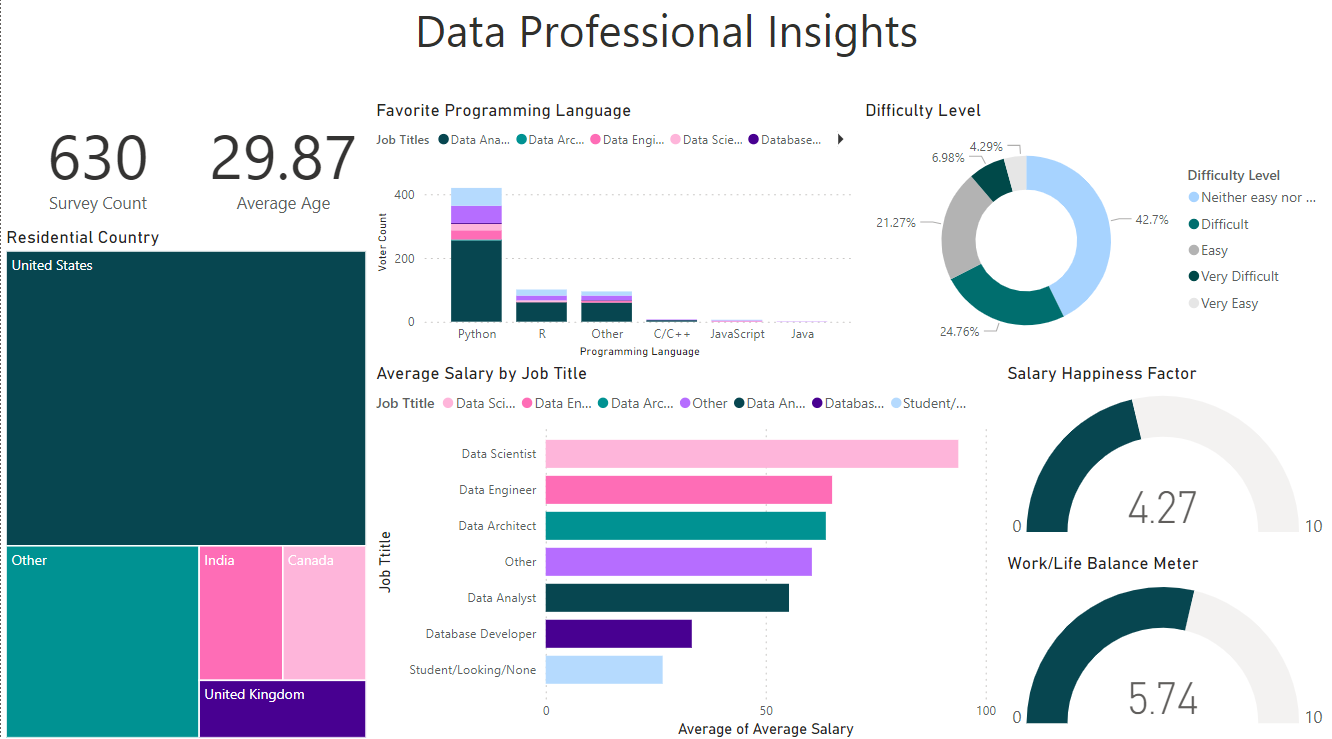

What the dashboard file says about the page in this screenshot:
{"tool":"powerbi","page":{"name":"Page 1","canvas":[1280,720],"ordinal":0},"visuals":[{"type":"textbox","box":[0,0,1280,101.2],"z":0},{"type":"card","fields":{"Values":["Count(Data Professional Survey.Unique ID)"]},"box":[0,100.8,186.2,122.4],"z":1000},{"type":"card","fields":{"Values":["Avg(Data Professional Survey.Q10 - Current Age)"]},"box":[186.2,100.8,169.8,122.4],"z":2000},{"type":"barChart","title":"Average Salary by Job Title","fields":{"Category":["Data Professional Survey.Q1 - Which Title Best Fits your Current Role?.1"],"Y":["Avg(Data Professional Survey.Average Salary)"],"Series":["Data Professional Survey.Q1 - Which Title Best Fits your Current Role?.1"]},"box":[356,354,606,366.3],"z":3000},{"type":"columnChart","title":"Favorite Programming Language","fields":{"Category":["Data Professional Survey.Q5 - Favorite Programming Language.1"],"Y":["CountNonNull(Data Professional Survey.Unique ID)"],"Series":["Data Professional Survey.Q1 - Which Title Best Fits your Current Role?.1"]},"box":[356,100.8,470.2,253.1],"z":4000},{"type":"treemap","title":"Residential Country","fields":{"Group":["Data Professional Survey.Q11 - Which Country do you live in?.1"],"Values":["Sum(Data Professional Survey.Average Salary)"]},"box":[0,223.3,356,497],"z":5000},{"type":"gauge","title":"Work/Life Balance Meter","fields":{"Y":["Avg(Data Professional Survey.Q6 - How Happy are you in your Current Position with the following? (Work/Life Balance))"],"MinValue":["Min(Data Professional Survey.Q6 - How Happy are you in your Current Position with the following? (Work/Life Balance))"],"MaxValue":["Max(Data Professional Survey.Q6 - How Happy are you in your Current Position with the following? (Work/Life Balance))1"]},"box":[962.1,536.1,317.9,184.2],"z":6000},{"type":"gauge","title":"Salary Happiness Factor","fields":{"Y":["Avg(Data Professional Survey.Q6 - How Happy are you in your Current Position with the following? (Salary))"],"MinValue":["Min(Data Professional Survey.Q6 - How Happy are you in your Current Position with the following? (Salary))"],"MaxValue":["Max(Data Professional Survey.Q6 - How Happy are you in your Current Position with the following? (Salary))"]},"box":[962.1,354,317.9,182.1],"z":7000},{"type":"donutChart","title":"Difficulty Level","fields":{"Y":["CountNonNull(Data Professional Survey.Q7 - How difficult was it for you to break into Data?)"],"Category":["Data Professional Survey.Q7 - How difficult was it for you to break into Data?"]},"box":[826.2,100.8,453.8,253.1],"z":8000}]}

Visuals, with their boxes in screenshot pixels (x1, y1, x2, y2), scaled from the page's 1280x720 canvas onto the 1332x739 screenshot:
textbox: <box>0,0,1331,104</box>
card - Count(Data Professional Survey.Unique ID): <box>0,103,194,229</box>
card - Avg(Data Professional Survey.Q10 - Current Age): <box>194,103,370,229</box>
"Average Salary by Job Title" barChart: <box>370,363,1001,738</box>
"Favorite Programming Language" columnChart: <box>370,103,860,363</box>
"Residential Country" treemap: <box>0,229,370,738</box>
"Work/Life Balance Meter" gauge: <box>1001,550,1331,738</box>
"Salary Happiness Factor" gauge: <box>1001,363,1331,550</box>
"Difficulty Level" donutChart: <box>860,103,1331,363</box>
